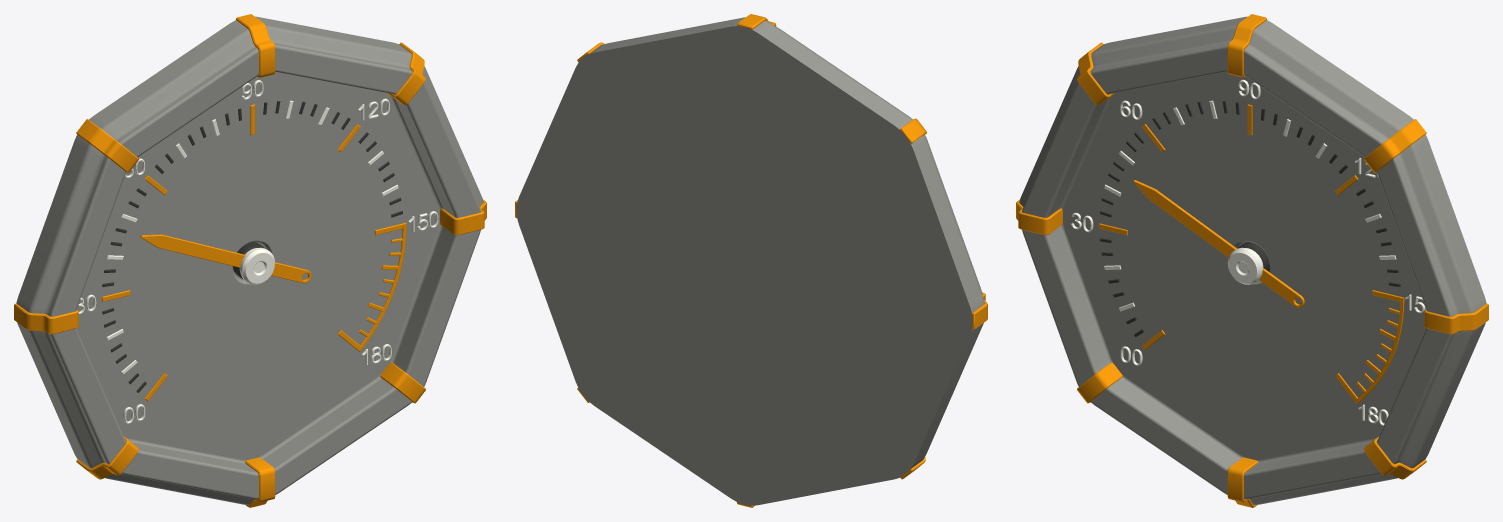
Rendered from Speedometer + Fuel #1.fbx.
The picture shows the model from 3 angles, left to right: view 1: azimuth 30°, elevation 25°; view 2: azimuth 150°, elevation 25°; view 3: azimuth 330°, elevation 25°; orthographic projection.
Visible parts, largest first — view 1: kitbash_16; view 2: kitbash_16; view 3: kitbash_16.
Part boxes in pixels (bbox=[...]): kitbash_16: bbox=[14, 14, 486, 507]; kitbash_16: bbox=[515, 14, 987, 507]; kitbash_16: bbox=[1016, 14, 1488, 507].
Size of the model in its own units: 15.92 by 15.92 by 1.46.
